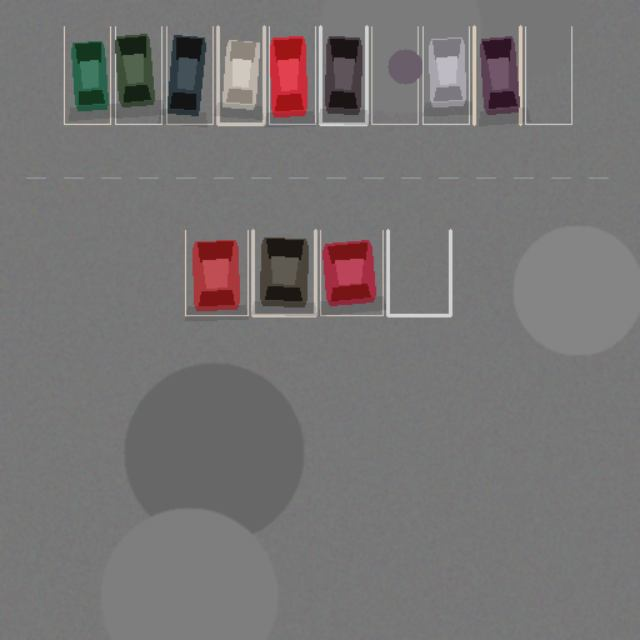space-empty: (388, 230, 450, 315), (371, 26, 418, 124), (525, 26, 571, 124)
space-occupied: (185, 230, 248, 315), (252, 230, 315, 315), (320, 230, 382, 315), (422, 26, 469, 124), (64, 26, 110, 124), (115, 26, 161, 124), (166, 26, 212, 124), (218, 26, 264, 124), (269, 26, 315, 124), (320, 26, 366, 124), (474, 26, 520, 124)
